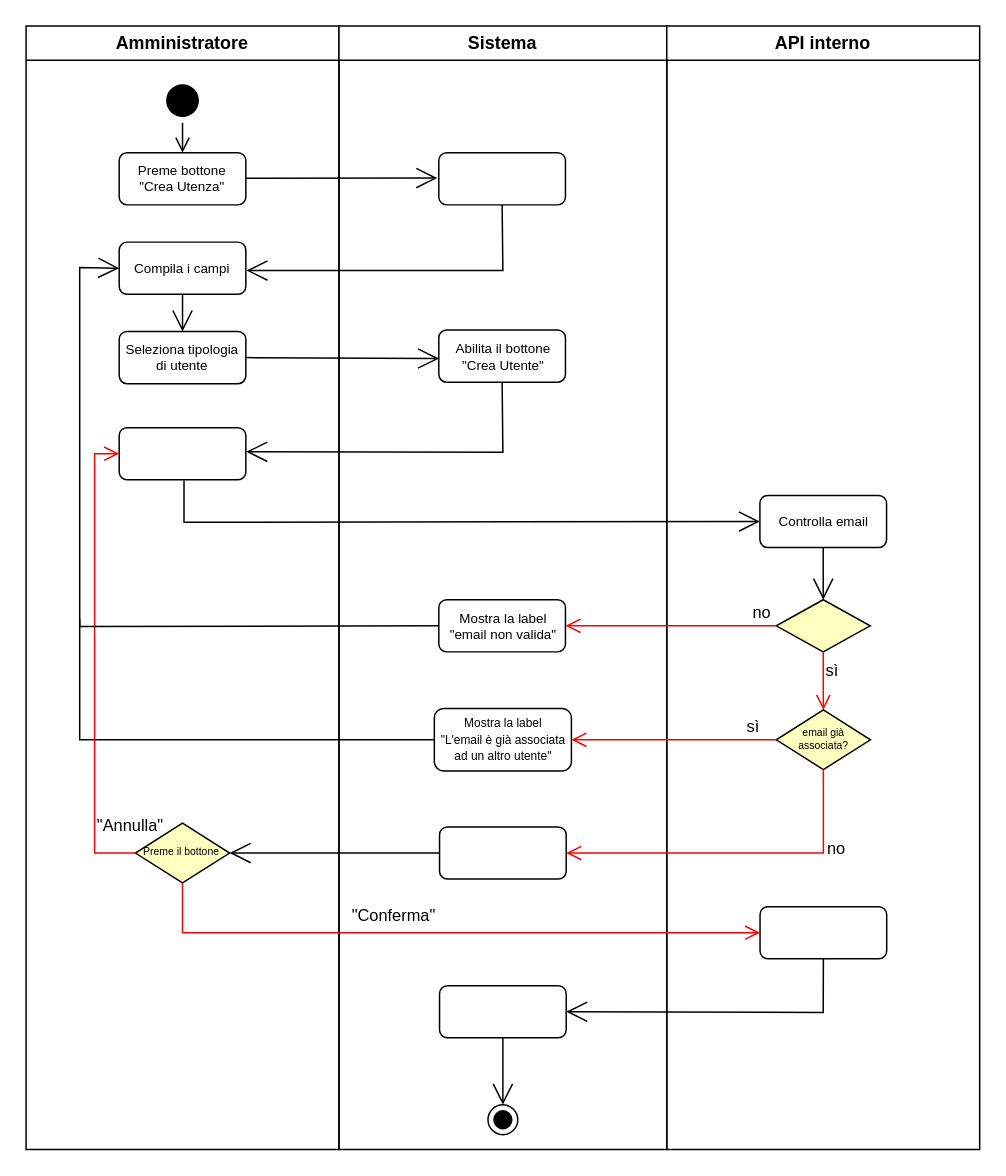
This 1006x1176 diagram has some shape labels left out. The shapes that lost their labels are listed below. From the top down, each one's centre as x and y in pixels, then its label:
point 501,178: Mostra la schermata "Crea Utente"
point 182,453: Preme il bottone "Crea Utente"
point 822,625: email valida?
point 502,852: Mostra popup "Creazione Utente"
point 823,932: Crea utente con i dati indicati
point 502,1011: Mostra la schermata "Home Admin"
